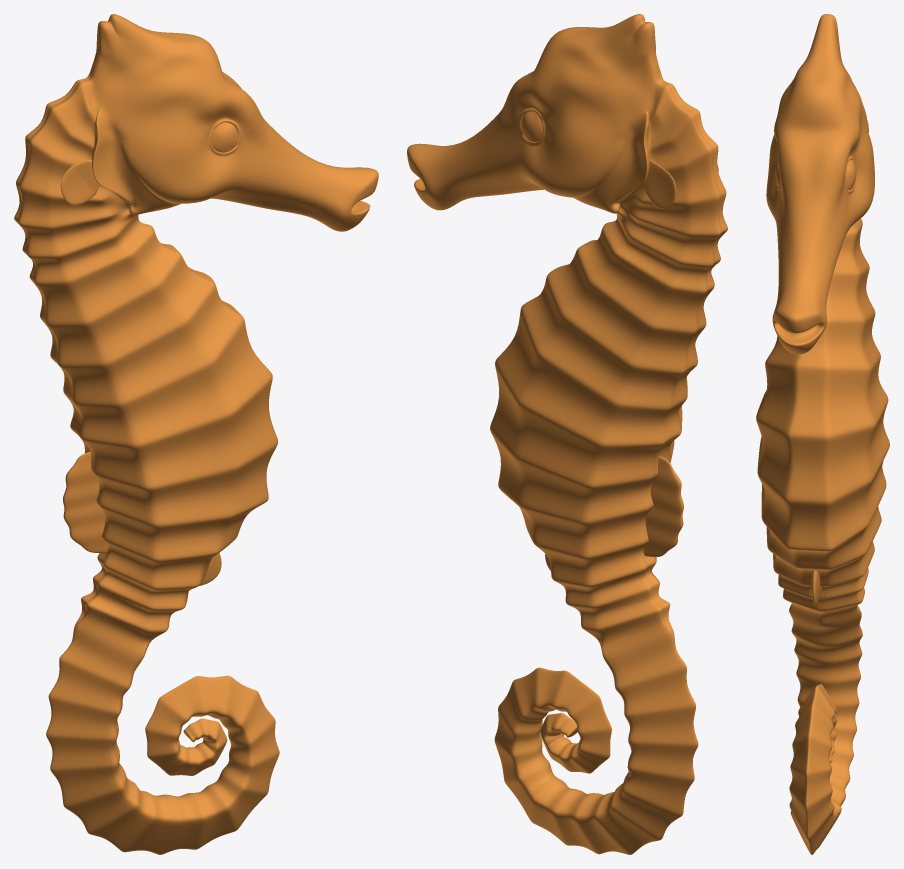
Rendered from SeaHorse.glb.
The picture shows the model from 3 angles, left to right: view 1: azimuth 30°, elevation 25°; view 2: azimuth 150°, elevation 25°; view 3: azimuth 270°, elevation 25°; orthographic projection. The views are drawn at different scales.
Parts seen in each view (by area): view 1: 10044_SeaHorse_v1_iterations-2; view 2: 10044_SeaHorse_v1_iterations-2; view 3: 10044_SeaHorse_v1_iterations-2.
Boxes of the visible parts, <box> form: 10044_SeaHorse_v1_iterations-2: <box>14,14,378,854</box>; 10044_SeaHorse_v1_iterations-2: <box>407,14,727,854</box>; 10044_SeaHorse_v1_iterations-2: <box>756,14,889,854</box>.
Bounding box in the file's own units: 1.75 × 4.21 × 0.6381.
